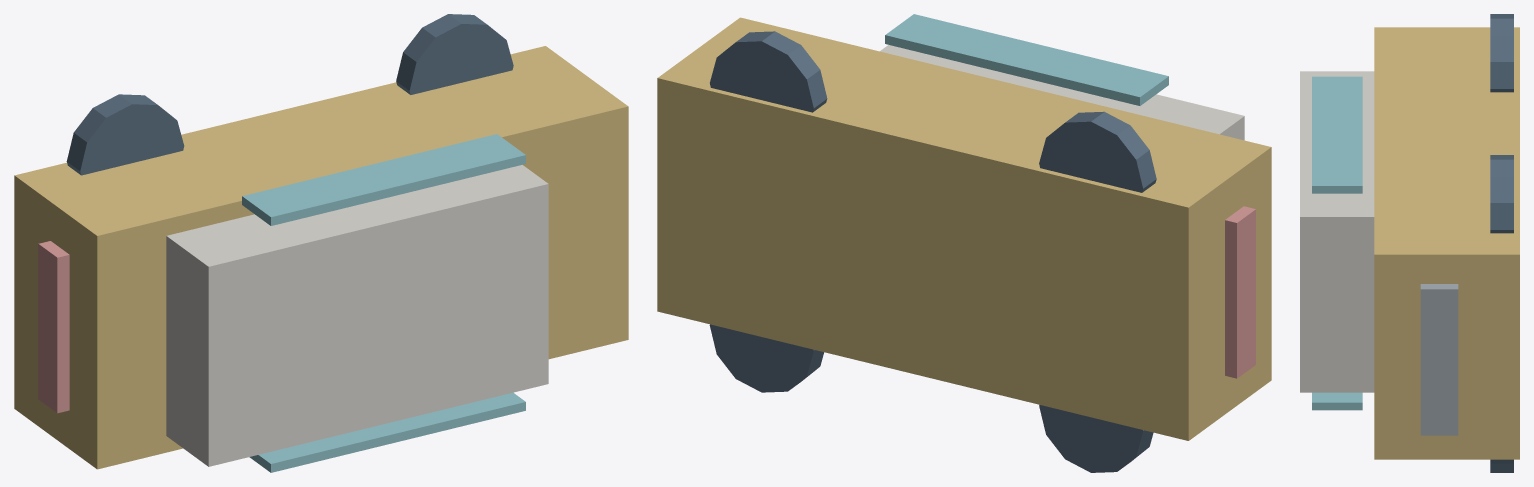
The model's file is minibus.glb.
3 views of the same model, side by side, from view 1: azimuth 30°, elevation 25°; view 2: azimuth 150°, elevation 25°; view 3: azimuth 270°, elevation 25° (orthographic). The views are drawn at different scales.
Visible parts, largest first — view 1: sun, white, glass, dark, salmon; view 2: sun, dark, glass, salmon, white; view 3: sun, white, glass, metal2, dark.
Boxes of the visible parts, left/top/right/bottom form: sun: left=14, top=46, right=628, bottom=469; white: left=166, top=165, right=548, bottom=466; glass: left=242, top=134, right=525, bottom=472; dark: left=66, top=14, right=513, bottom=175; salmon: left=38, top=241, right=69, bottom=413; sun: left=657, top=17, right=1271, bottom=440; dark: left=709, top=31, right=1156, bottom=472; glass: left=885, top=14, right=1168, bottom=105; salmon: left=1225, top=206, right=1255, bottom=378; white: left=880, top=45, right=1244, bottom=140; sun: left=1374, top=27, right=1519, bottom=459; white: left=1300, top=71, right=1374, bottom=392; glass: left=1312, top=76, right=1362, bottom=410; metal2: left=1420, top=284, right=1458, bottom=435; dark: left=1490, top=14, right=1513, bottom=472.
Bounding box in the file's own units: 5.23 × 3.16 × 2.04.
